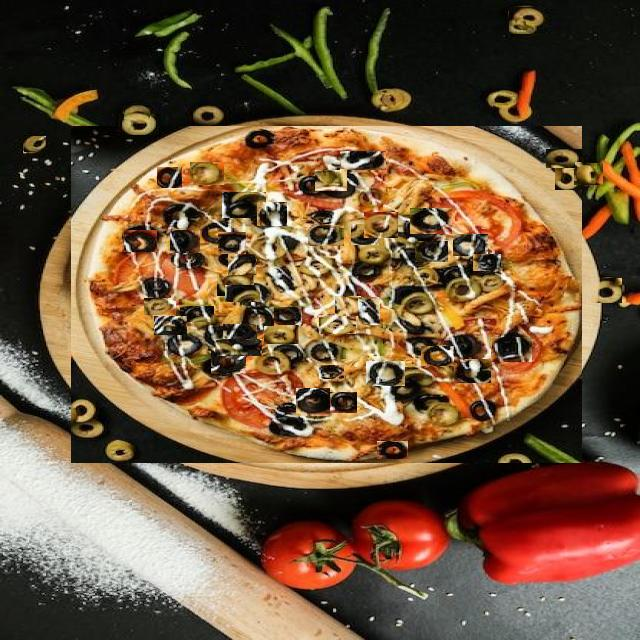olive: (222, 192, 266, 218), (410, 208, 452, 234), (510, 7, 548, 34), (491, 337, 532, 362), (366, 361, 405, 386), (296, 388, 330, 416), (212, 348, 248, 374), (370, 89, 412, 111), (340, 152, 386, 172), (454, 359, 491, 383), (364, 212, 398, 238), (493, 104, 537, 124), (378, 255, 410, 282), (118, 114, 159, 135), (381, 284, 419, 306), (446, 318, 484, 340), (308, 225, 344, 248), (216, 340, 262, 358), (171, 288, 210, 309), (217, 274, 254, 296), (592, 278, 624, 303), (190, 162, 224, 185), (453, 234, 488, 256), (169, 230, 203, 252), (319, 314, 356, 334), (124, 230, 157, 252), (546, 150, 582, 170), (125, 228, 155, 252), (257, 202, 287, 226), (556, 165, 584, 190), (415, 241, 448, 262), (170, 230, 200, 253), (200, 176, 238, 194), (400, 320, 436, 339), (315, 170, 347, 191), (421, 346, 454, 366), (367, 331, 399, 351), (489, 90, 524, 108), (264, 326, 299, 344), (154, 316, 187, 335), (520, 126, 546, 150), (482, 291, 513, 311), (575, 163, 603, 185), (218, 232, 246, 254), (358, 297, 380, 325), (223, 324, 257, 342), (328, 392, 357, 413), (225, 285, 260, 302), (192, 107, 225, 125), (351, 224, 379, 245), (228, 254, 256, 275), (216, 300, 242, 322), (274, 308, 302, 328), (377, 441, 408, 459), (144, 298, 176, 315), (180, 306, 214, 322), (157, 167, 182, 188), (335, 296, 361, 316), (351, 171, 381, 187), (473, 254, 501, 271), (124, 105, 150, 119), (24, 136, 46, 152), (319, 365, 344, 379)
pizza: (71, 126, 582, 463)
